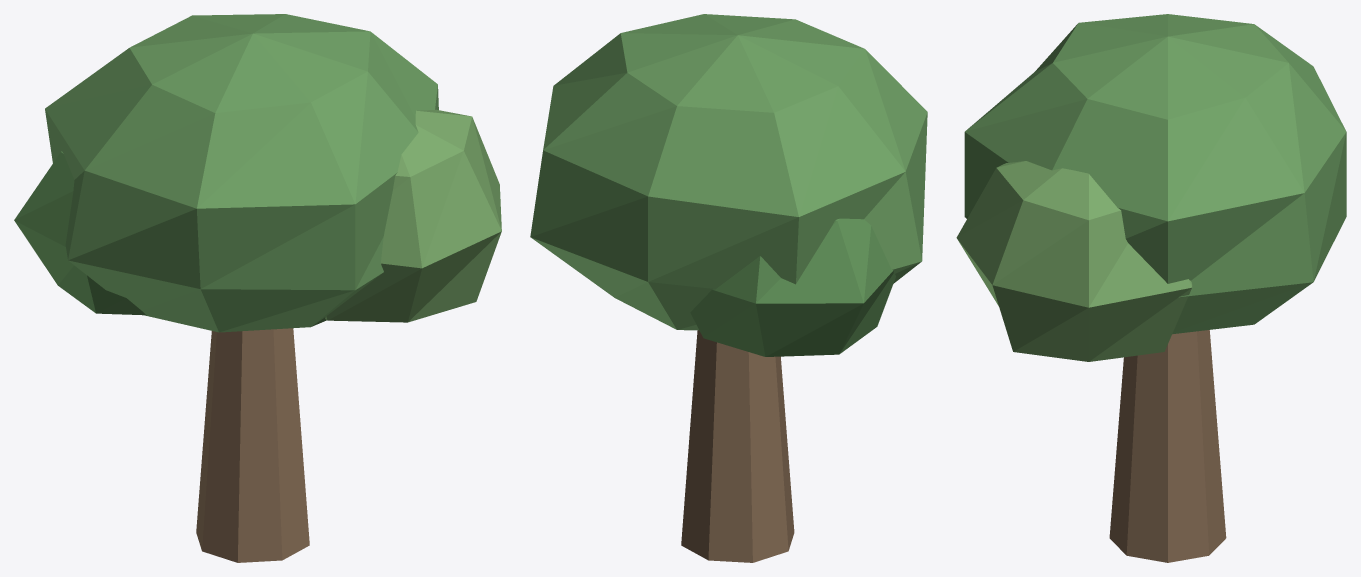
Rendered from oak_tree.glb.
3 views of the same model, side by side, from view 1: azimuth 30°, elevation 25°; view 2: azimuth 150°, elevation 25°; view 3: azimuth 270°, elevation 25° (orthographic).
Size of the model in its own units: 3.69 by 4.55 by 3.21.
